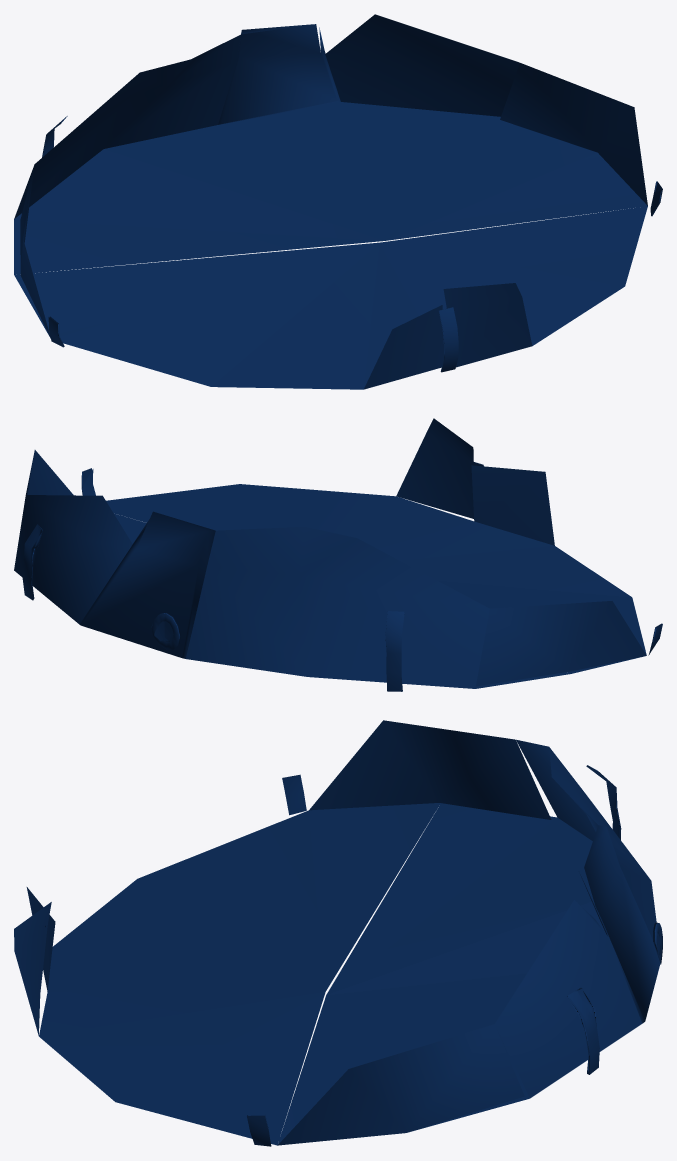
The model's file is hip.glb.
3 views of the same model, one above another, from view 1: azimuth 30°, elevation 25°; view 2: azimuth 150°, elevation 25°; view 3: azimuth 270°, elevation 25° (orthographic). The views are drawn at different scales.
Visible parts, largest first — view 1: shorts-navy_HIP; view 2: shorts-navy_HIP; view 3: shorts-navy_HIP.
Boxes of the visible parts, left/top/right/bottom form: shorts-navy_HIP: left=14, top=14, right=662, bottom=389; shorts-navy_HIP: left=14, top=418, right=662, bottom=691; shorts-navy_HIP: left=14, top=720, right=662, bottom=1146.
Bounding box in the file's own units: 0.4259 × 0.1111 × 0.3341.
Materials: 1 (1 with a texture image).
